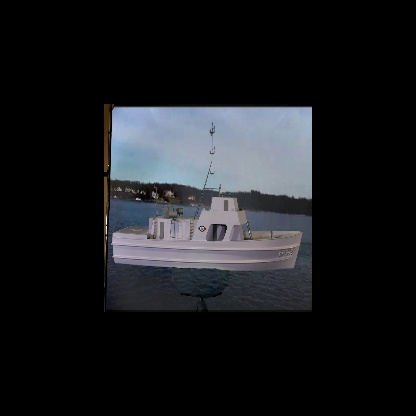YP689: (111, 120, 303, 271)
